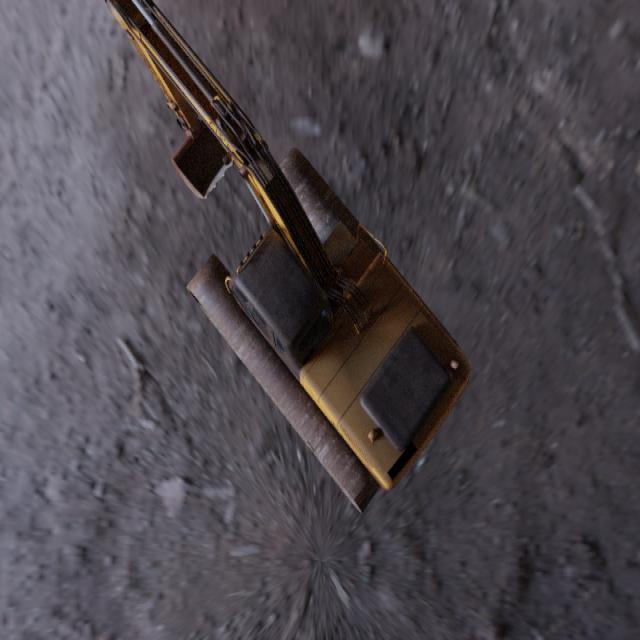excavator: (104, 0, 471, 515)
